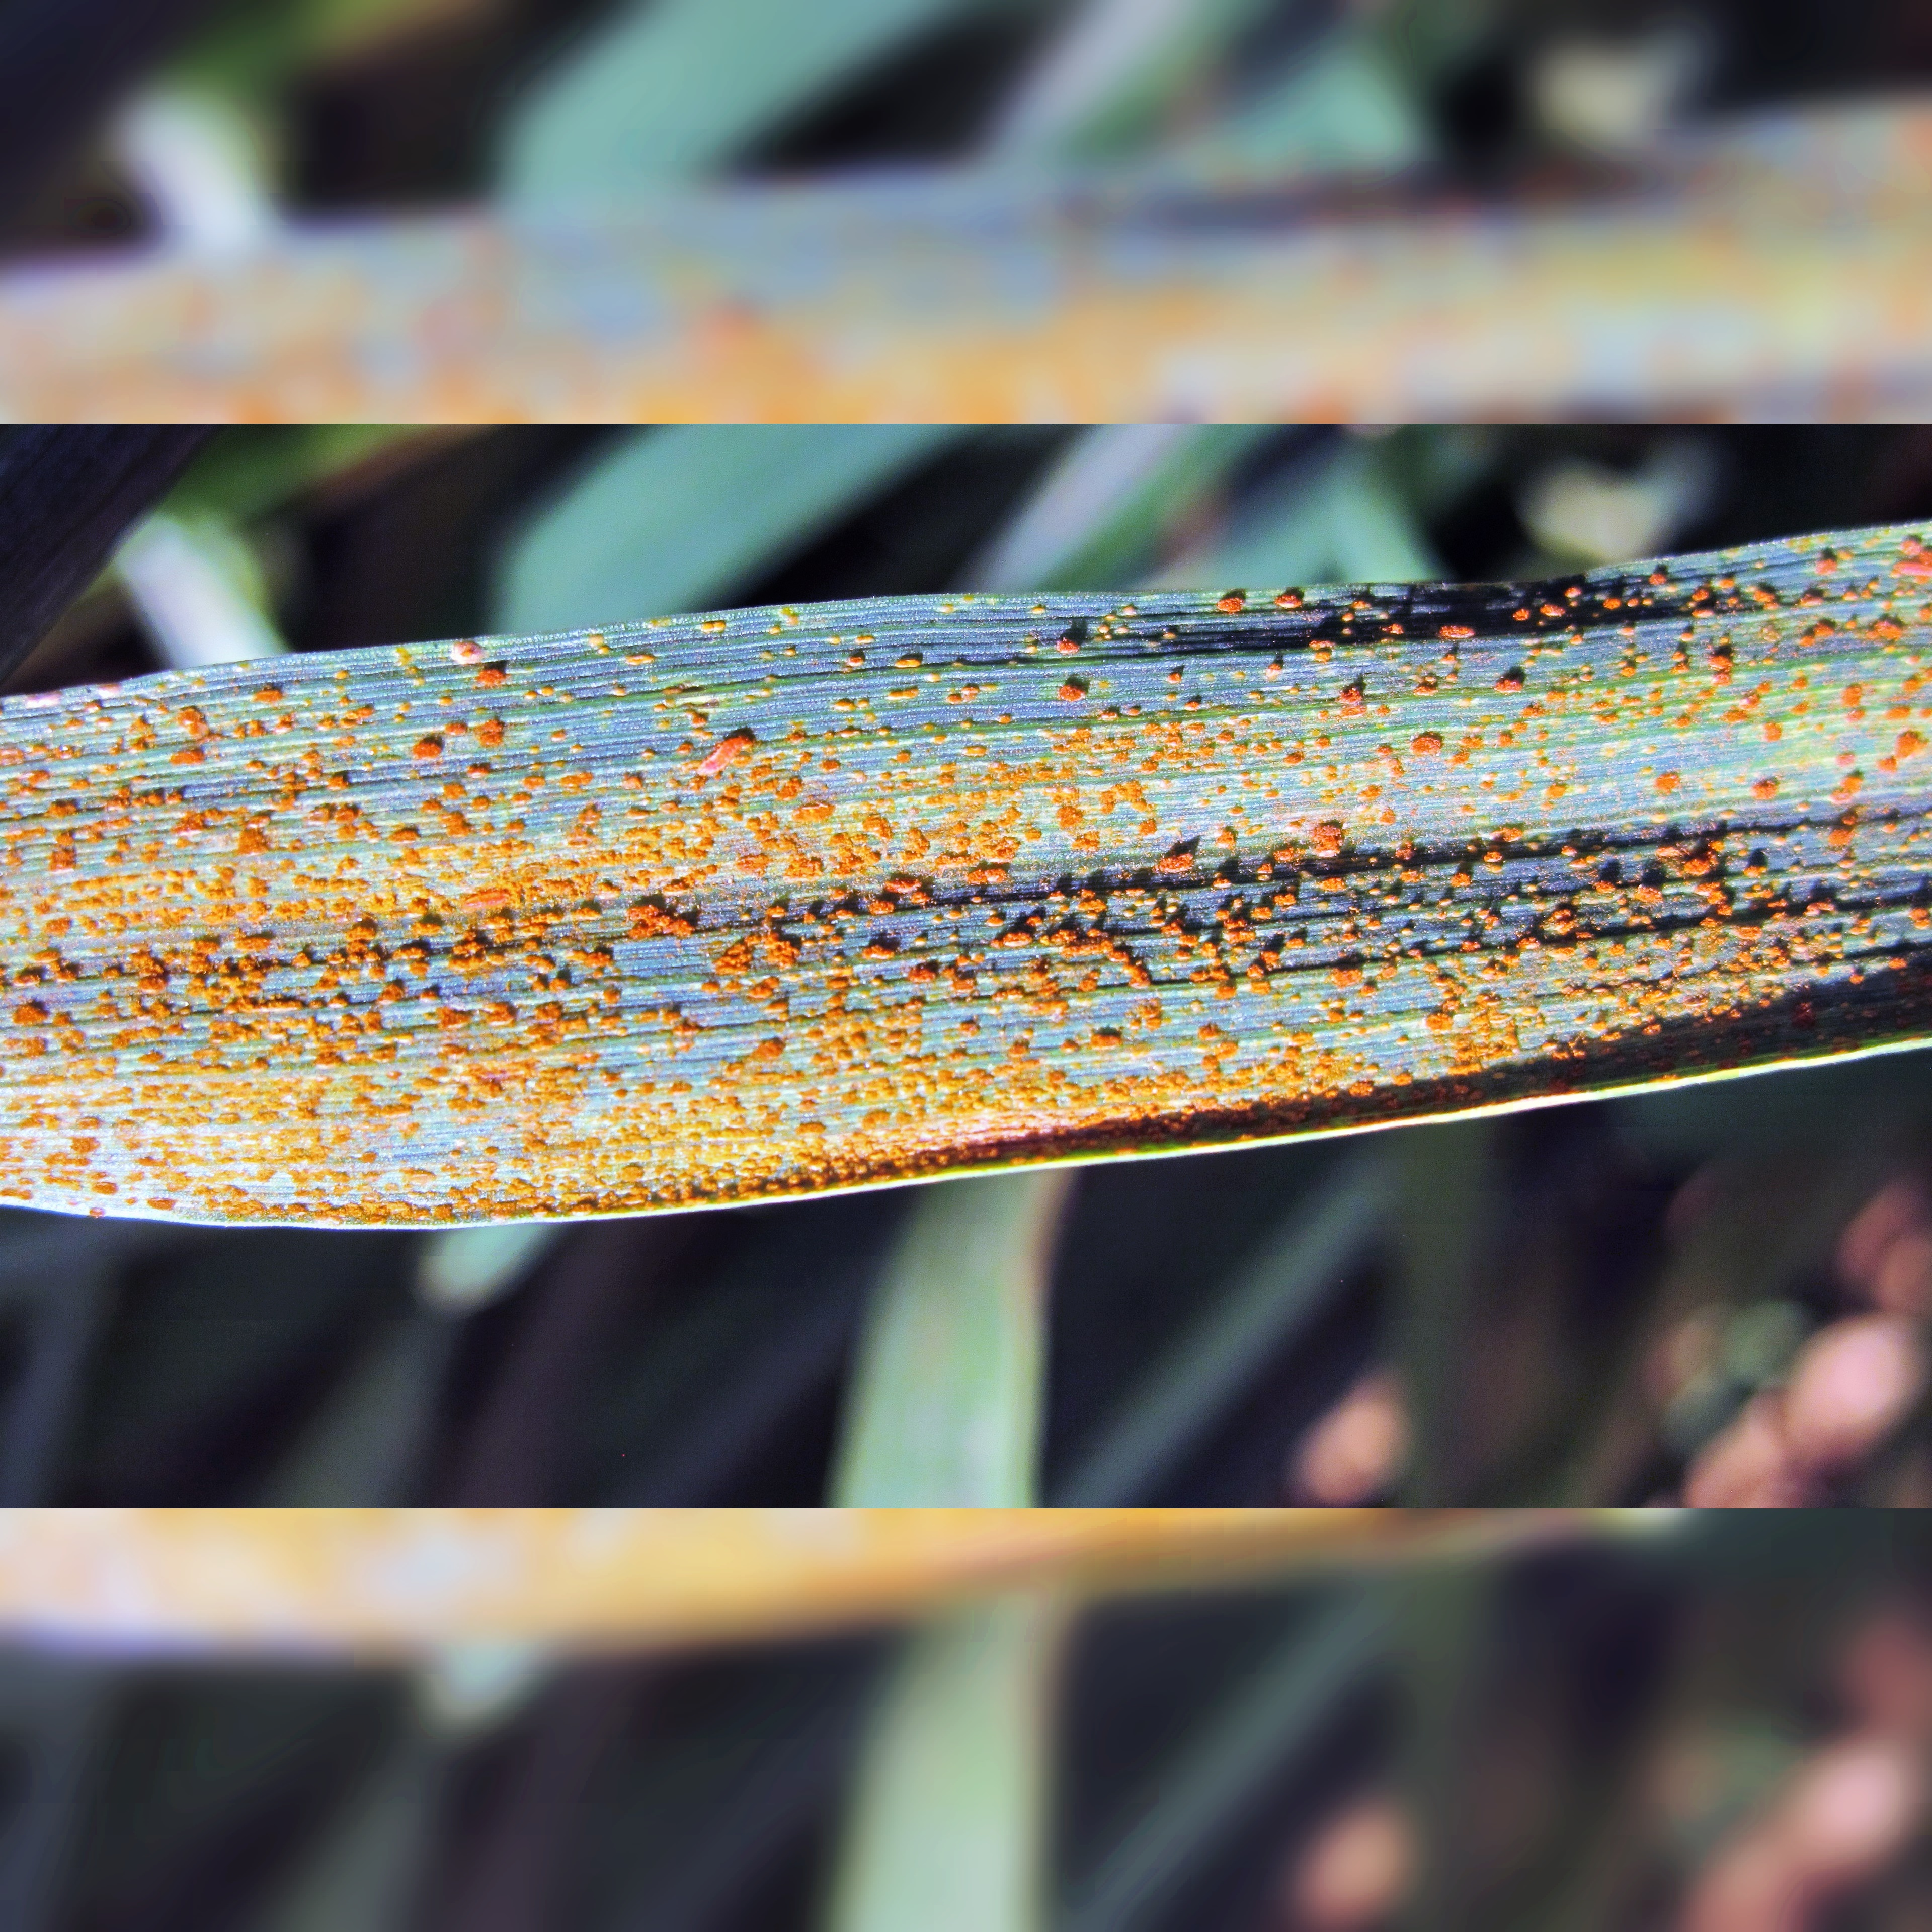Leaf Rust: (34, 518, 1904, 1265)
